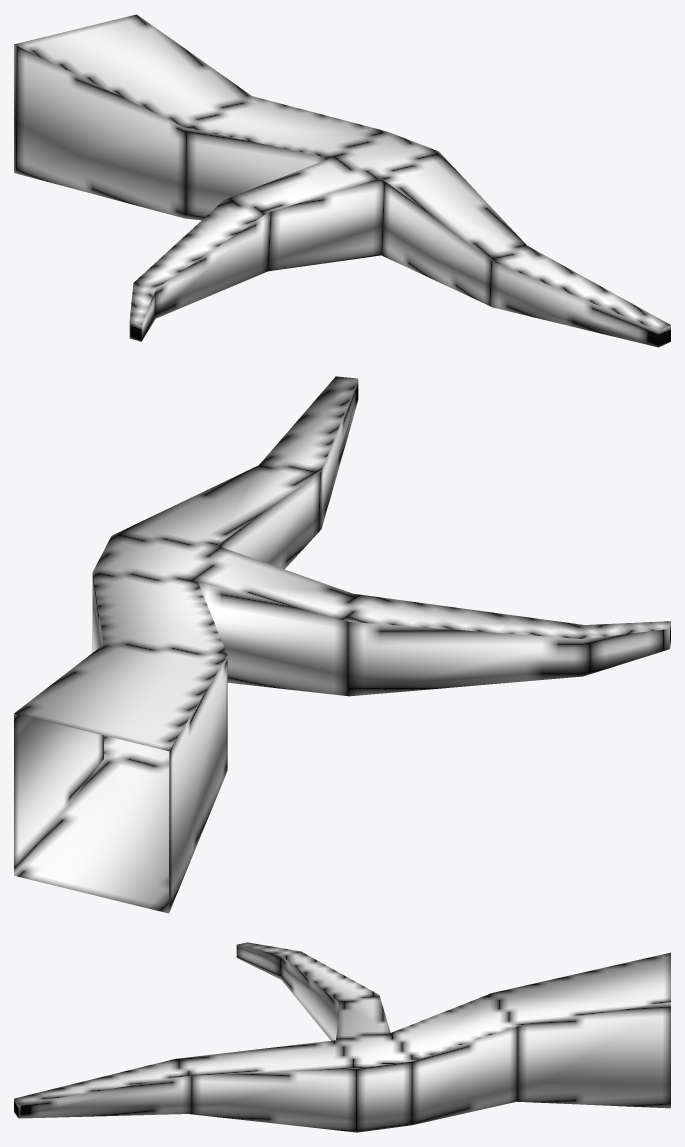
The model's file is Horn.obj.
3 renders of one model, top to bottom at view 1: azimuth 30°, elevation 25°; view 2: azimuth 150°, elevation 25°; view 3: azimuth 270°, elevation 25°, orthographic. The views are drawn at different scales.
Parts seen in each view (by area): view 1: Cube4; view 2: Cube4; view 3: Cube4.
Part boxes in pixels (x1,y1,x2,y2): Cube4: (14,14,670,347); Cube4: (14,376,670,913); Cube4: (14,942,670,1132).
Bounding box in the file's own units: 2.1 × 0.64 × 3.59.
1 material, 1 textured.
